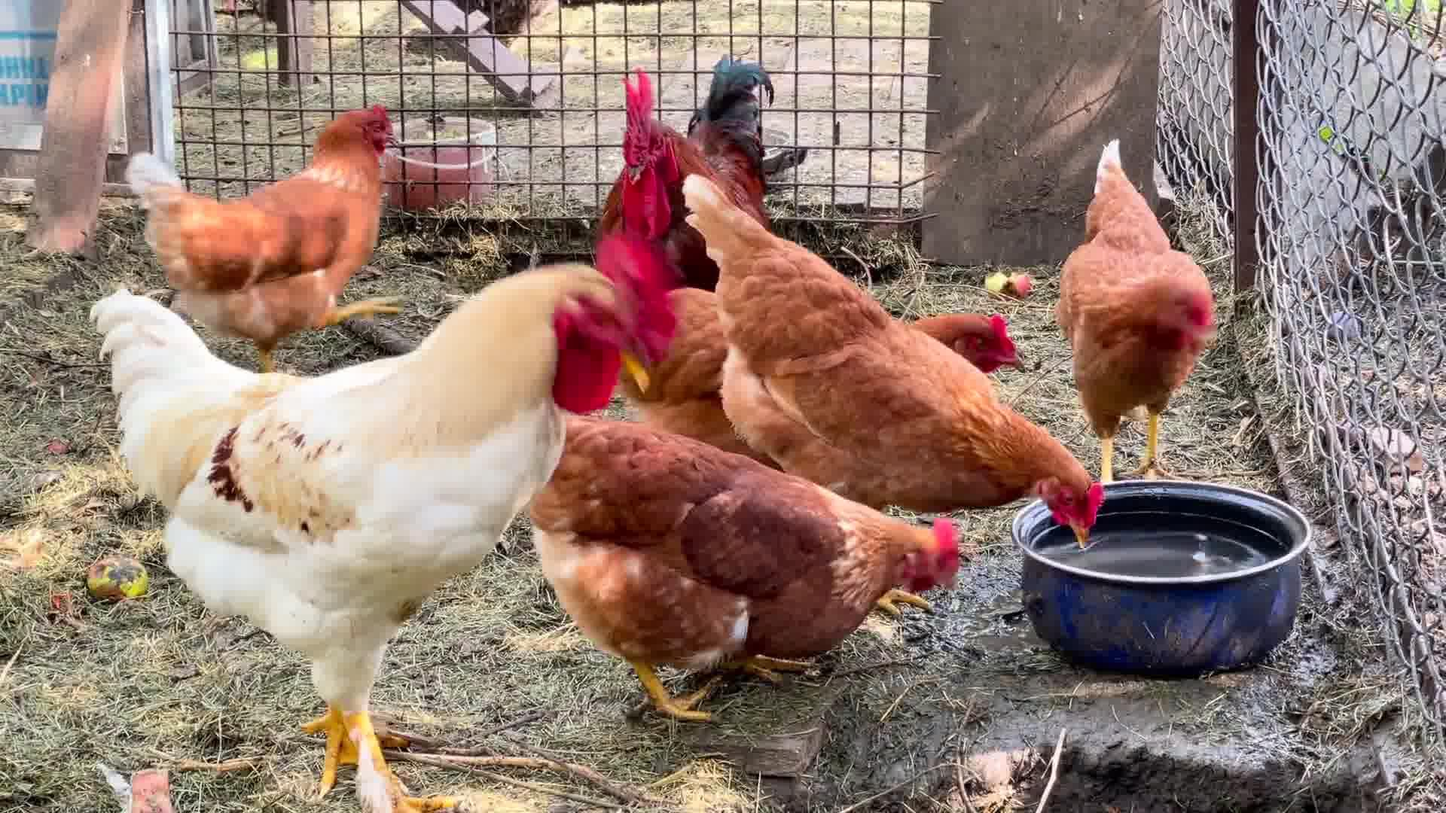Normal: (95, 232, 686, 813), (682, 168, 1105, 559), (560, 413, 962, 738), (115, 94, 459, 368), (1062, 138, 1216, 479), (586, 53, 804, 285)
